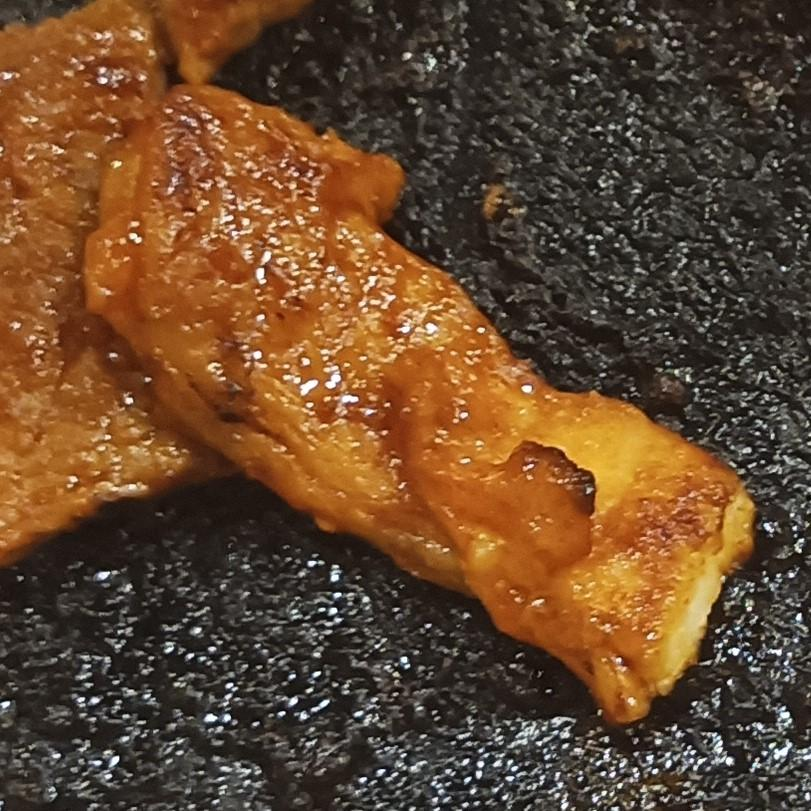Well-Cooked: (80, 84, 759, 731), (0, 2, 231, 567)
